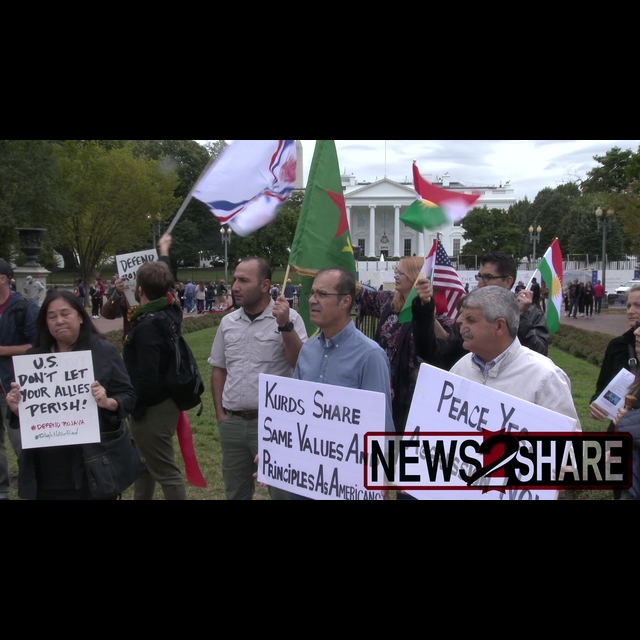IBKY: (538, 236, 572, 339)
